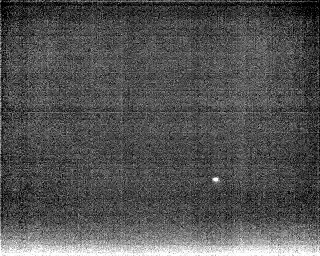AIRPLANE: (210, 174, 221, 186)
